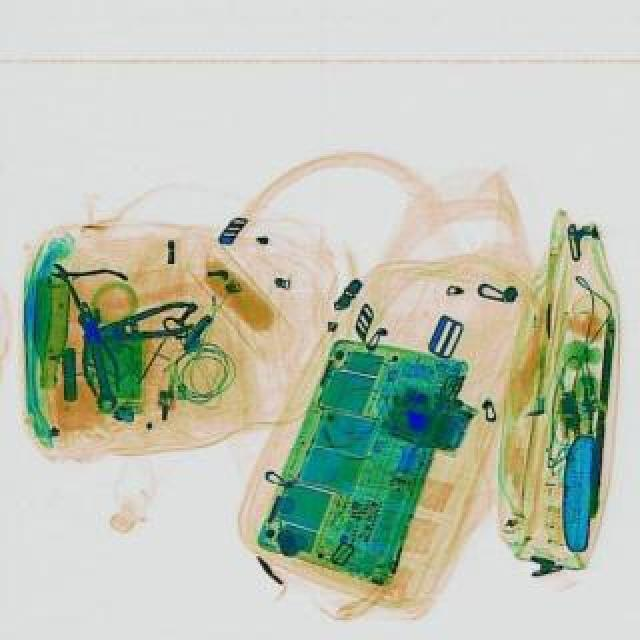scissors: (72, 308, 120, 410)
wrench: (36, 242, 128, 324), (76, 296, 198, 354), (66, 298, 122, 396)
